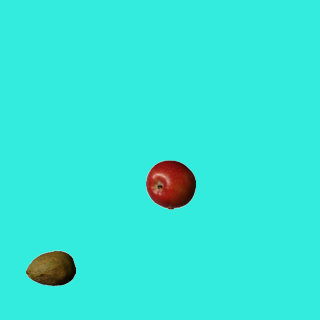Apple Braeburn: (145, 159, 195, 209)
Papaya: (25, 243, 75, 293)
